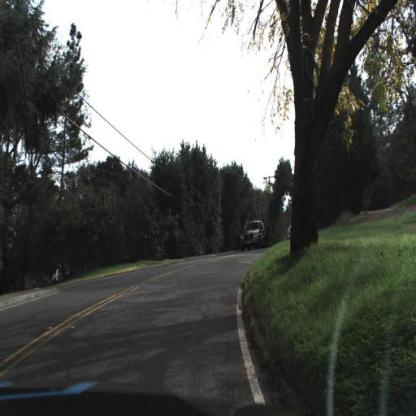car: (239, 218, 269, 252), (239, 217, 267, 253)
